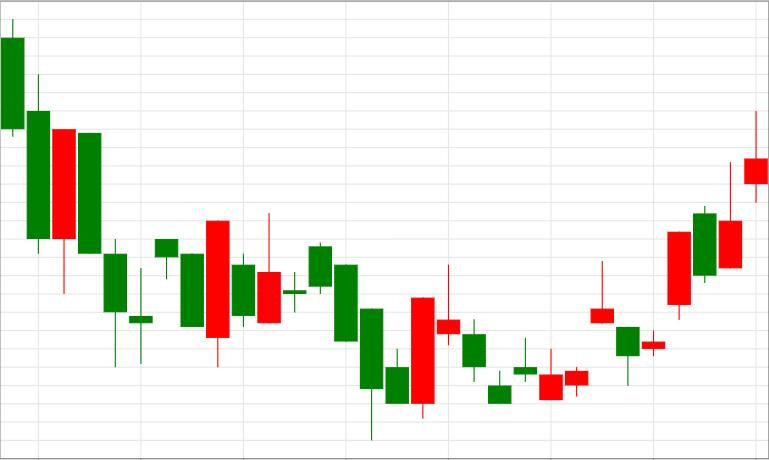bullish_engulfing_rise: (308, 242, 434, 441)
shooting_star_fall: (643, 109, 769, 356)
